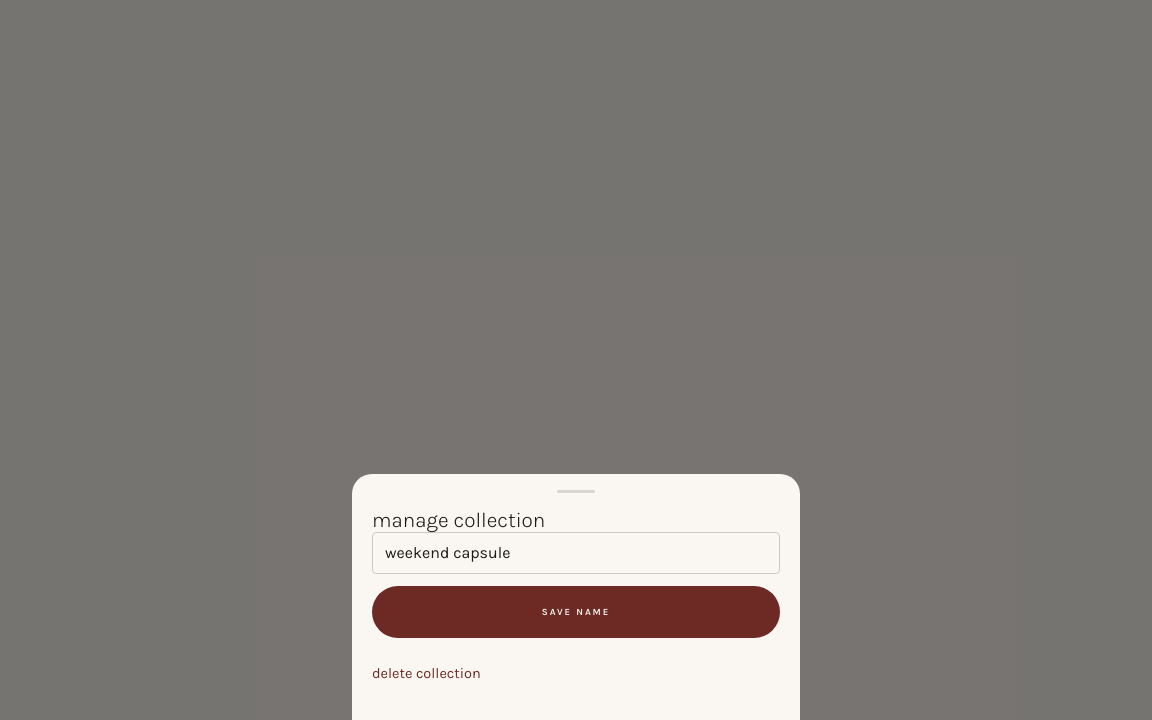
it: ManageCollectionSheet › closes the confirm dialog again on a second consecutive delete failure
Click the button "delete collection" at (426, 674), box [372,650,780,698]
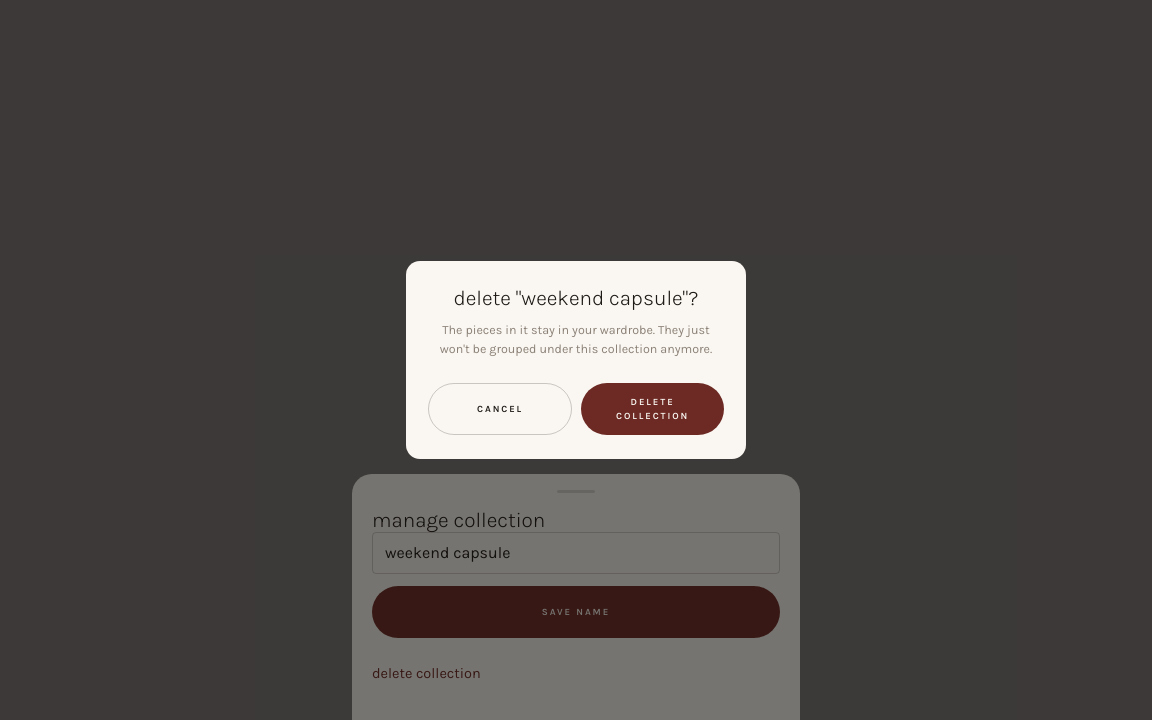
Click the button "delete collection" at (653, 409), box [581,383,724,435]
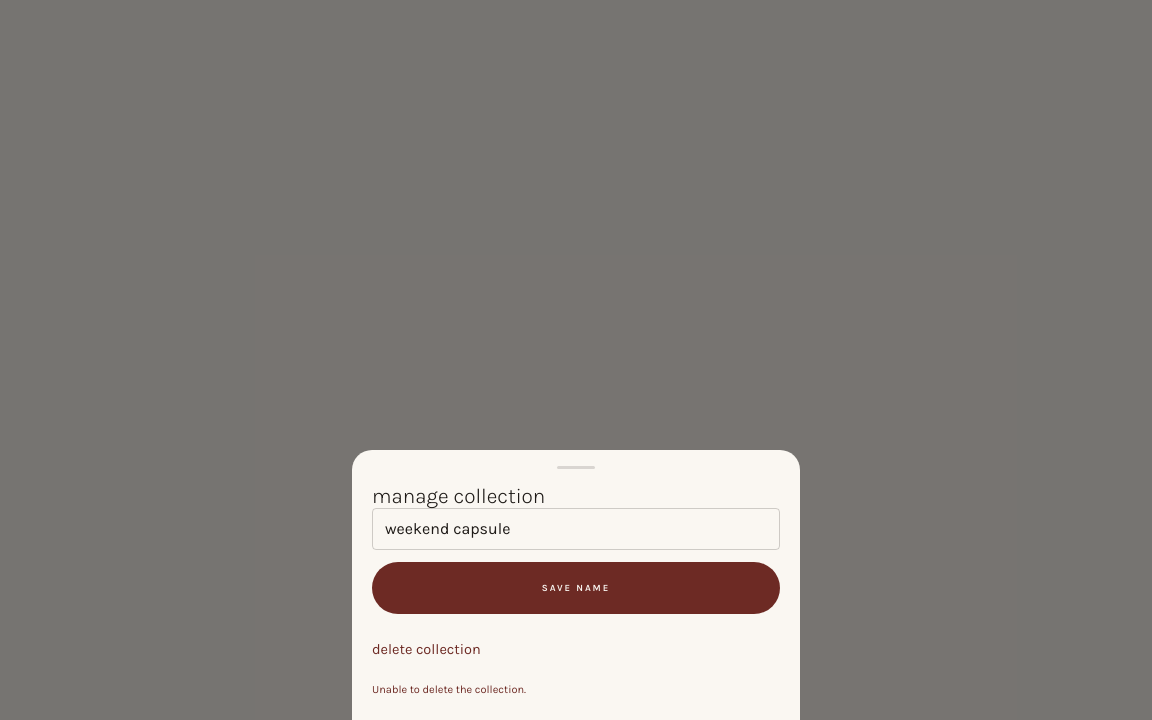
Expected: the text "Unable to delete the collection." is shown, [372,682,526,696]
Click the button "delete collection" at (426, 649), box [372,626,780,674]
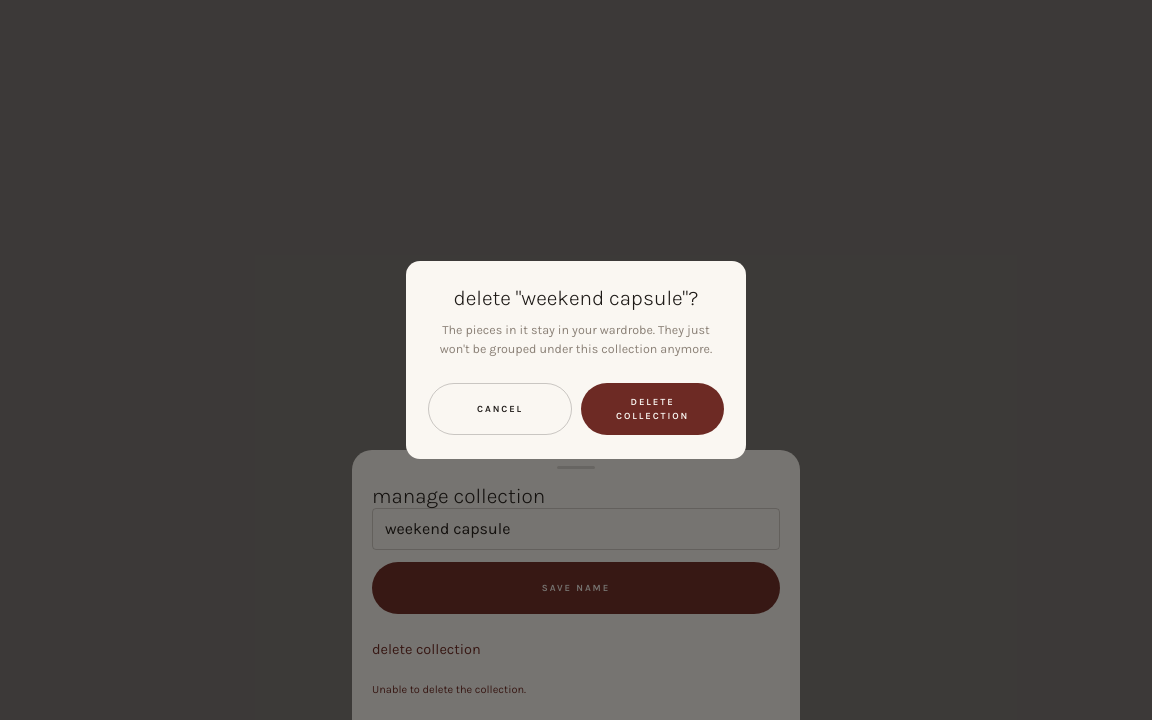
Click the button "delete collection" at (653, 409), box [581,383,724,435]
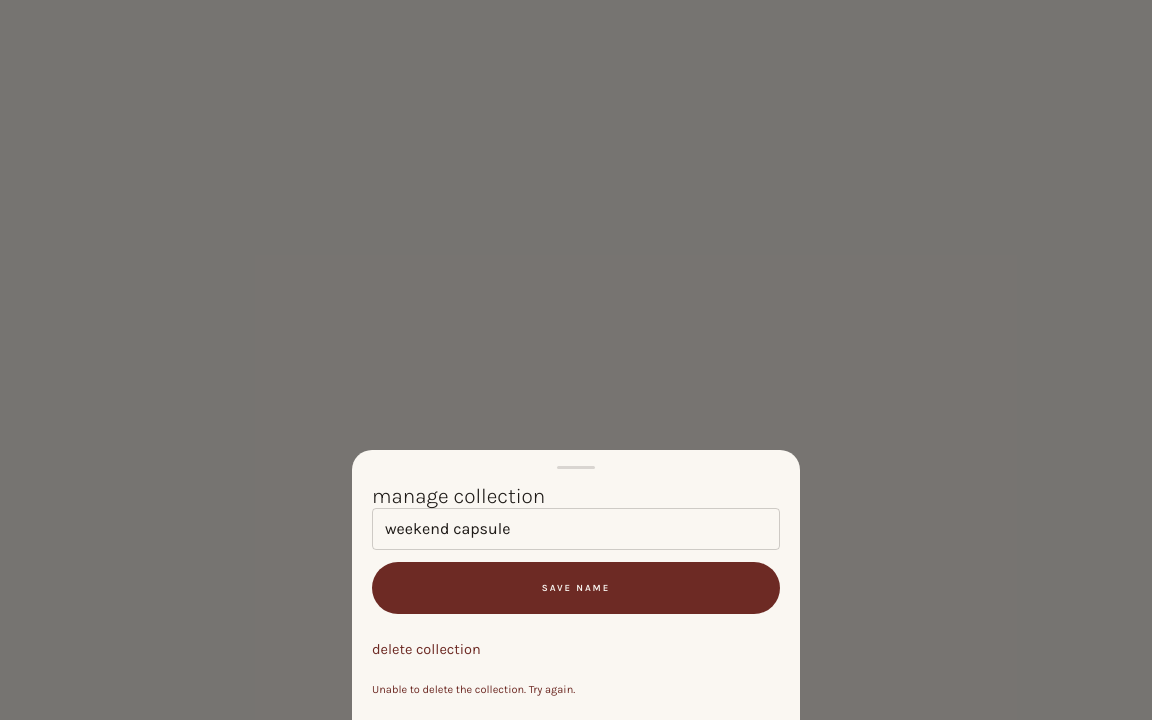
Expected: the text "Unable to delete the collection. Try again." is shown, [372,682,575,696]
